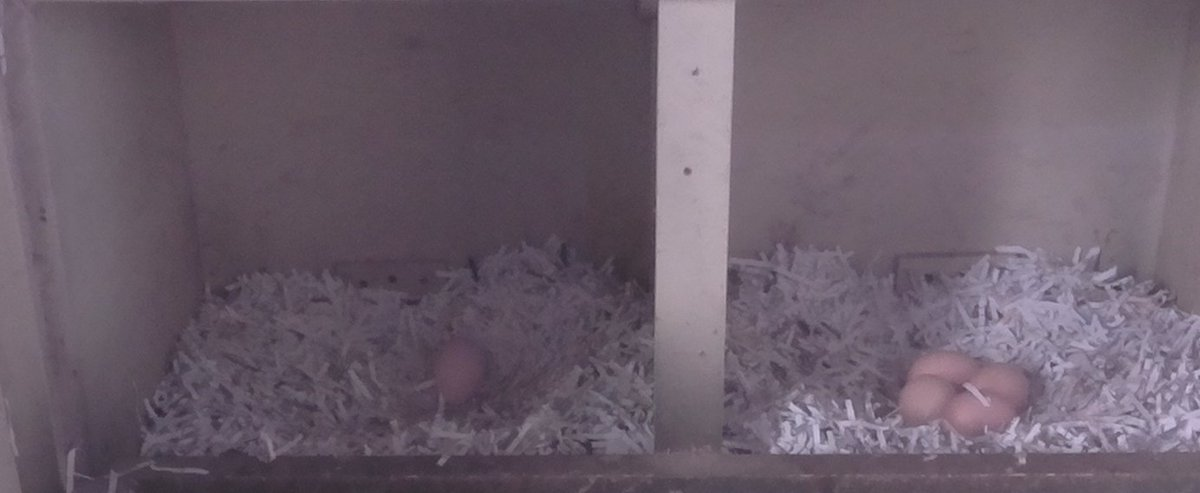egg: (430, 336, 491, 412), (940, 387, 1018, 434), (966, 361, 1038, 410), (894, 375, 956, 425), (905, 348, 978, 385)
